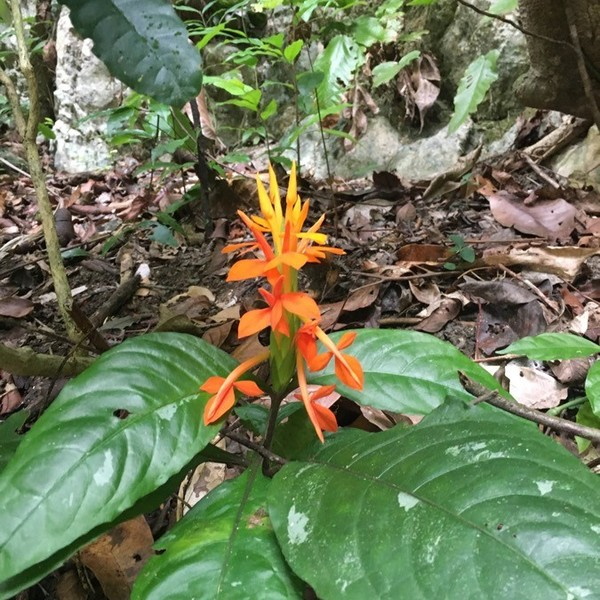obstacle: (93, 153, 584, 592)
